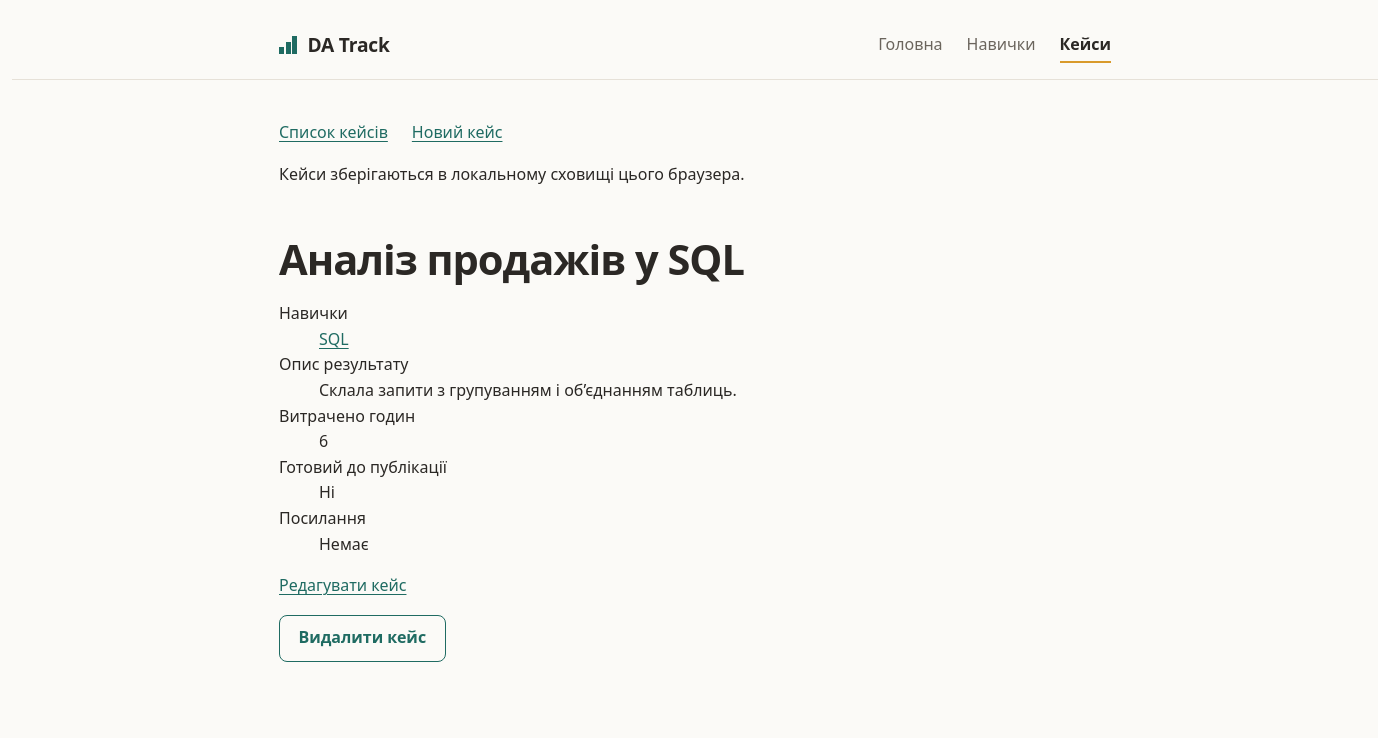
Test: відмова видалення залишає запис і поточну адресу
The image size is (1378, 738).
expect the heading "Аналіз продажів у SQL" is shown: met, box [279,231,744,287]
Click the button "Видалити кейс".
click(362, 638)  # box [279,615,446,662]
(page scrolled)
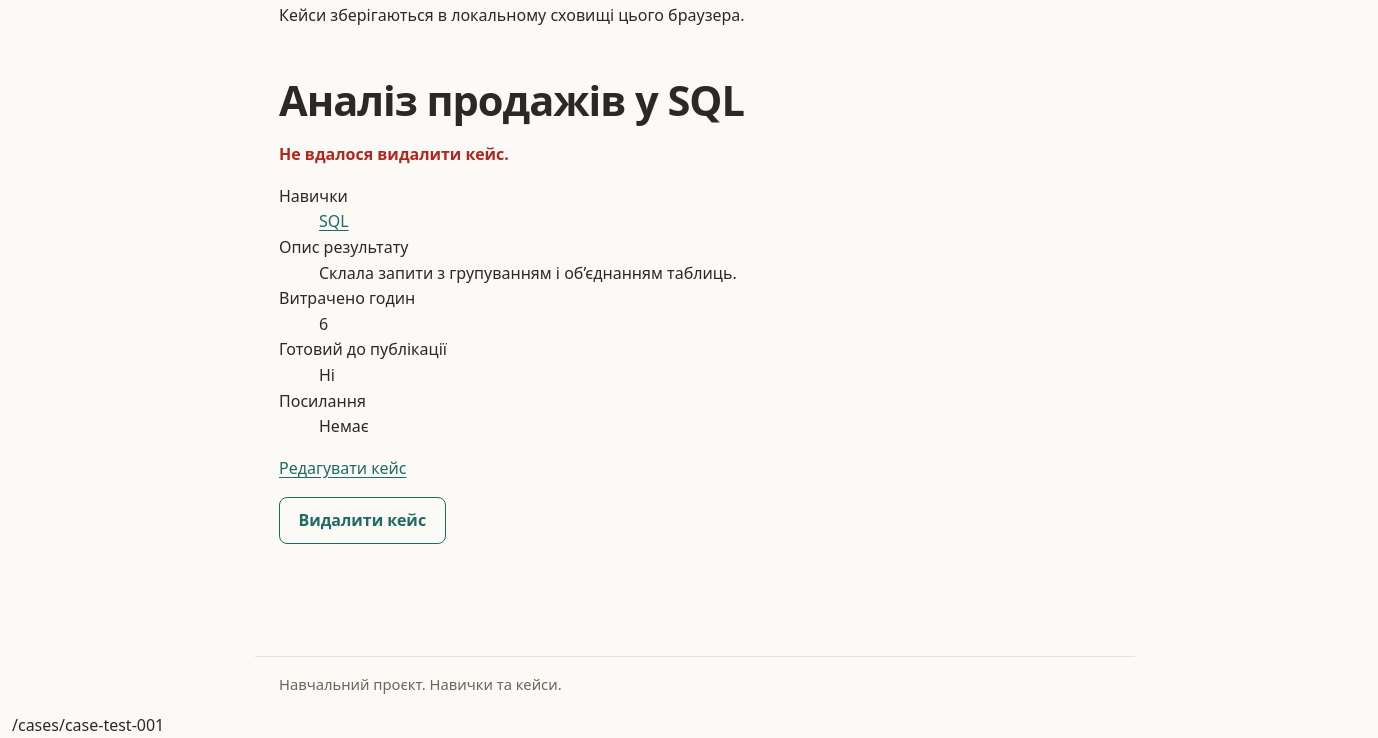
expect the text "Склала запити з групуванням і об’єднанням таблиць." is shown: met, box [319,262,737,284]
expect the message reads "Не вдалося видалити кейс.": met, box [279,143,509,165]
